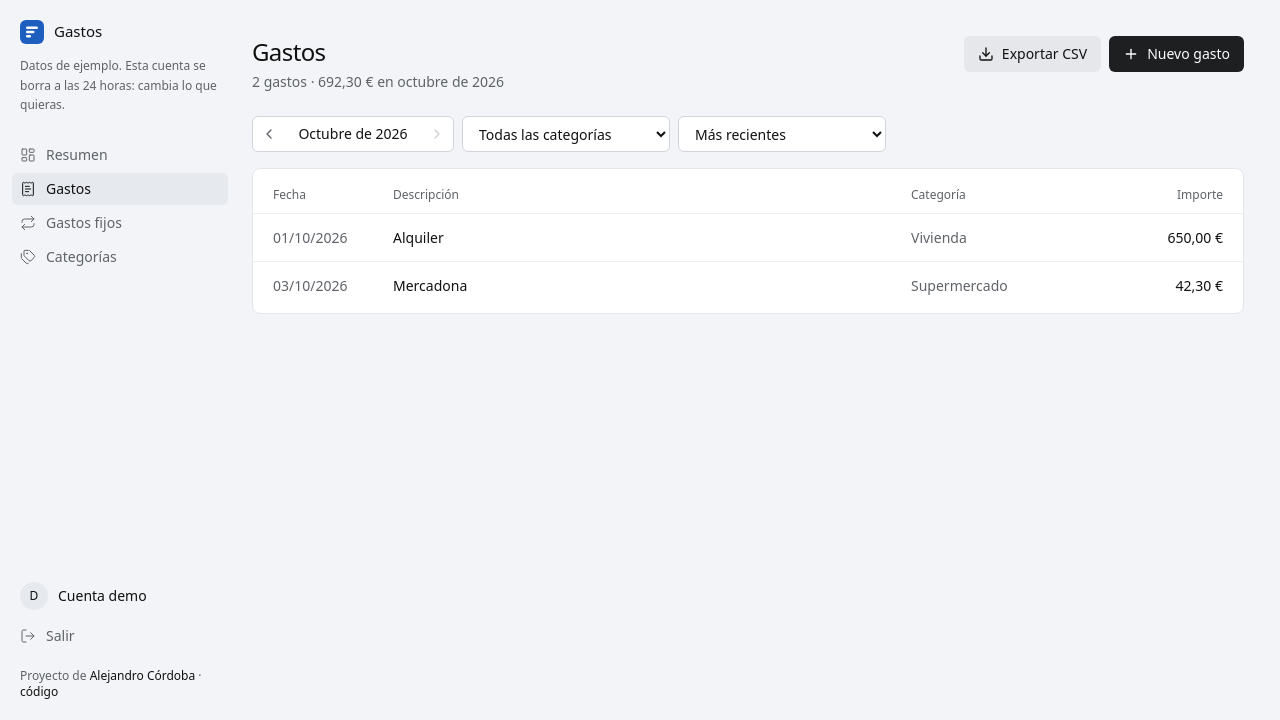
expenses page › creates an expense, accepting a decimal comma
Click the button "Nuevo gasto".
click(1177, 54)  # box [1109, 36, 1244, 72]
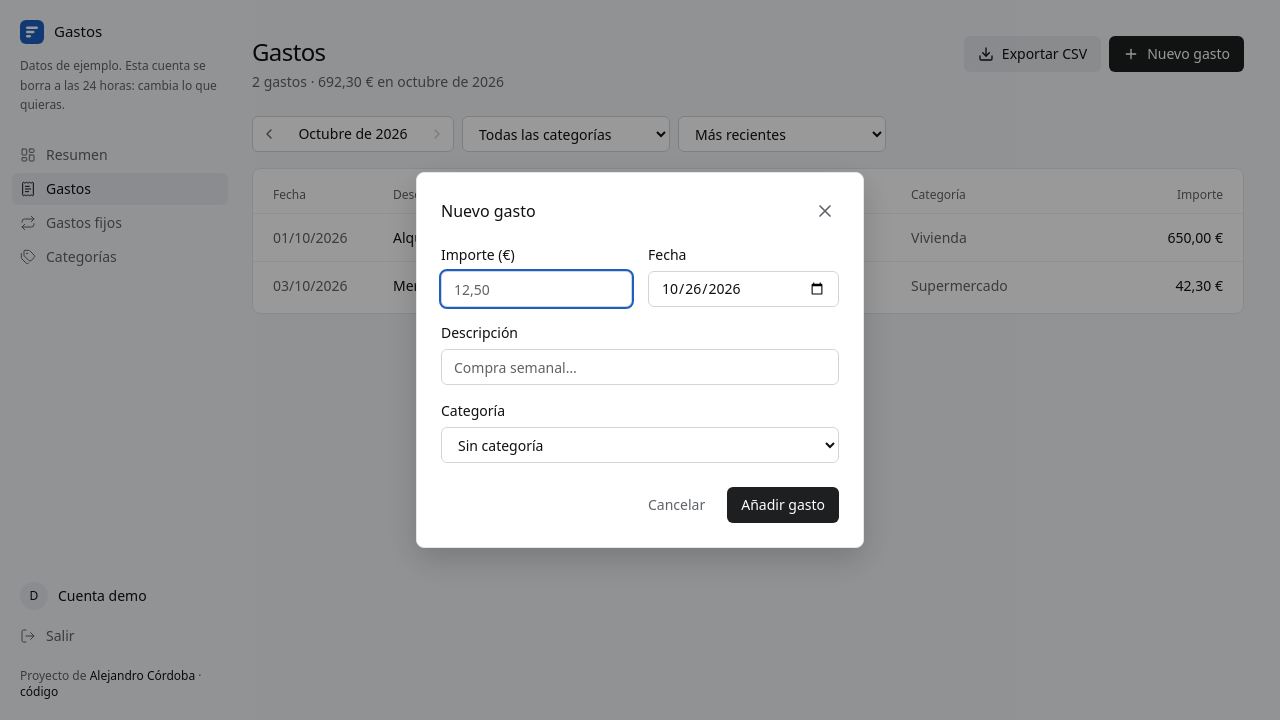
Type "12,5" into the field labelled "Importe (€)".
click(536, 289); type("12,5")  # box [441, 271, 632, 307]
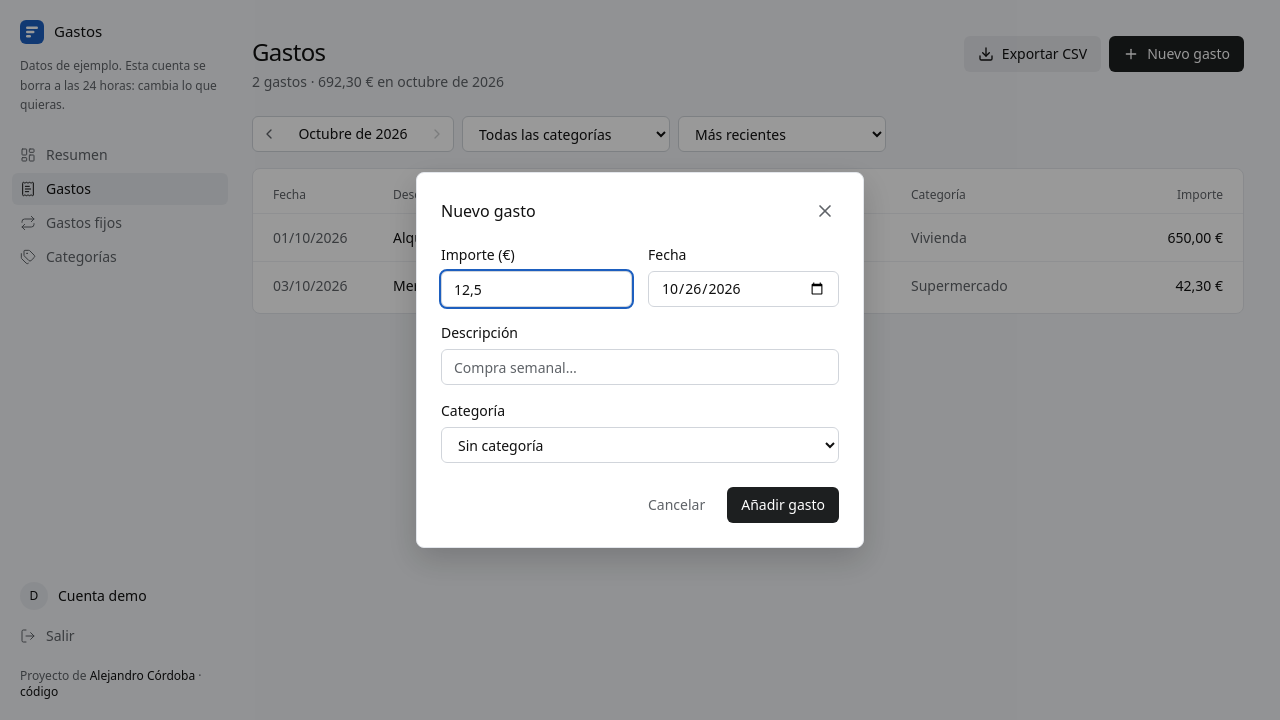
Type "Cine" into the field labelled "Descripción".
click(640, 367); type("Cine")  # box [441, 349, 839, 385]
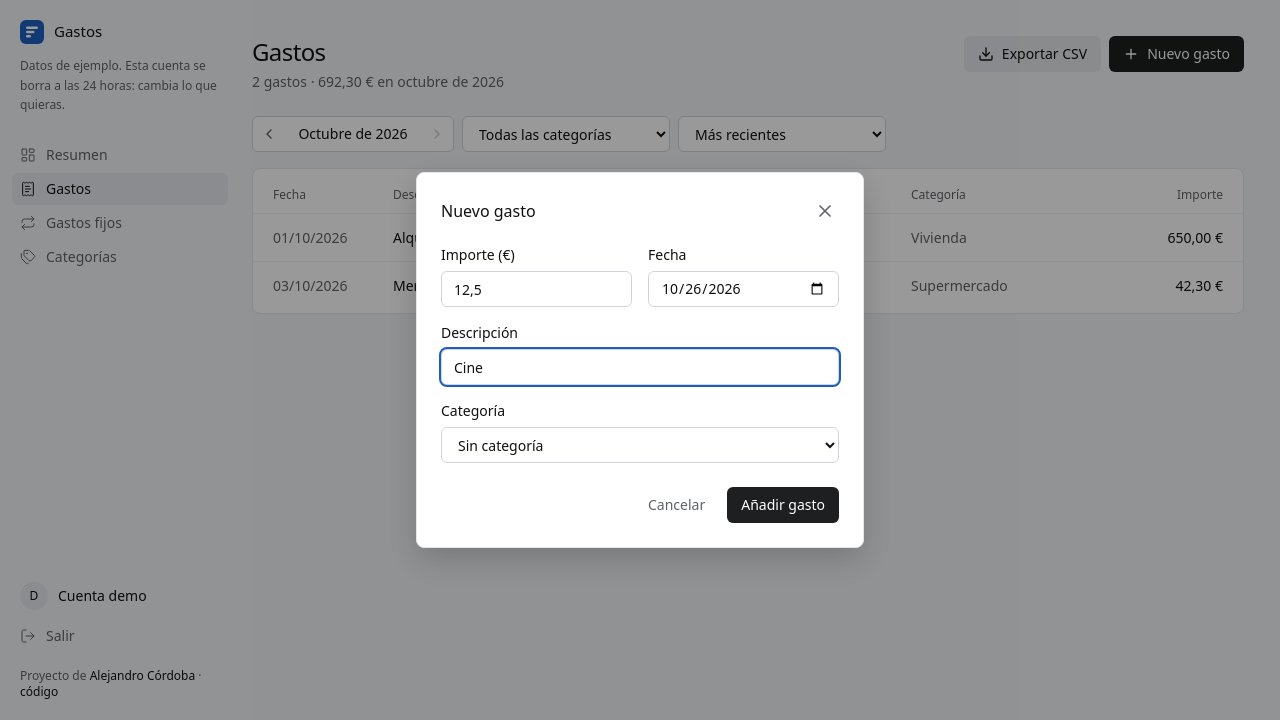
Select "Supermercado" in the dropdown labelled "Categoría" at coordinates (640, 445), box [441, 427, 839, 463]
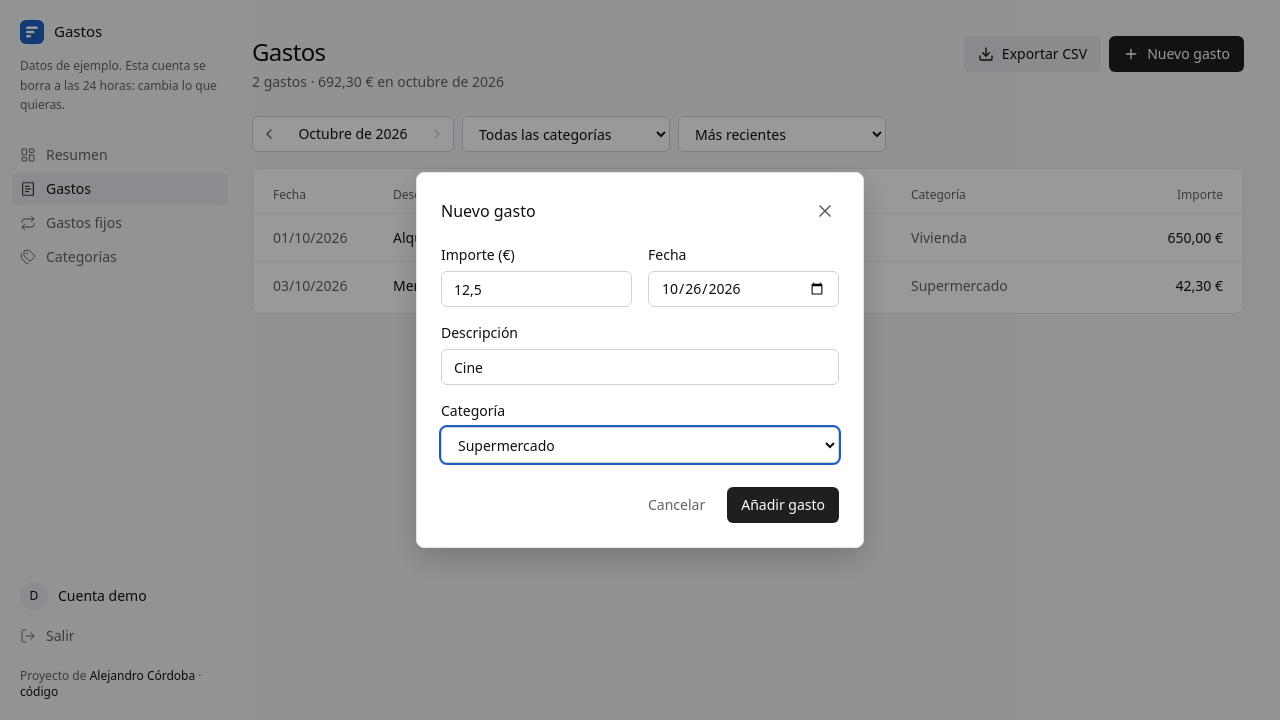
Click the button "Añadir gasto".
click(783, 505)  # box [727, 487, 839, 523]
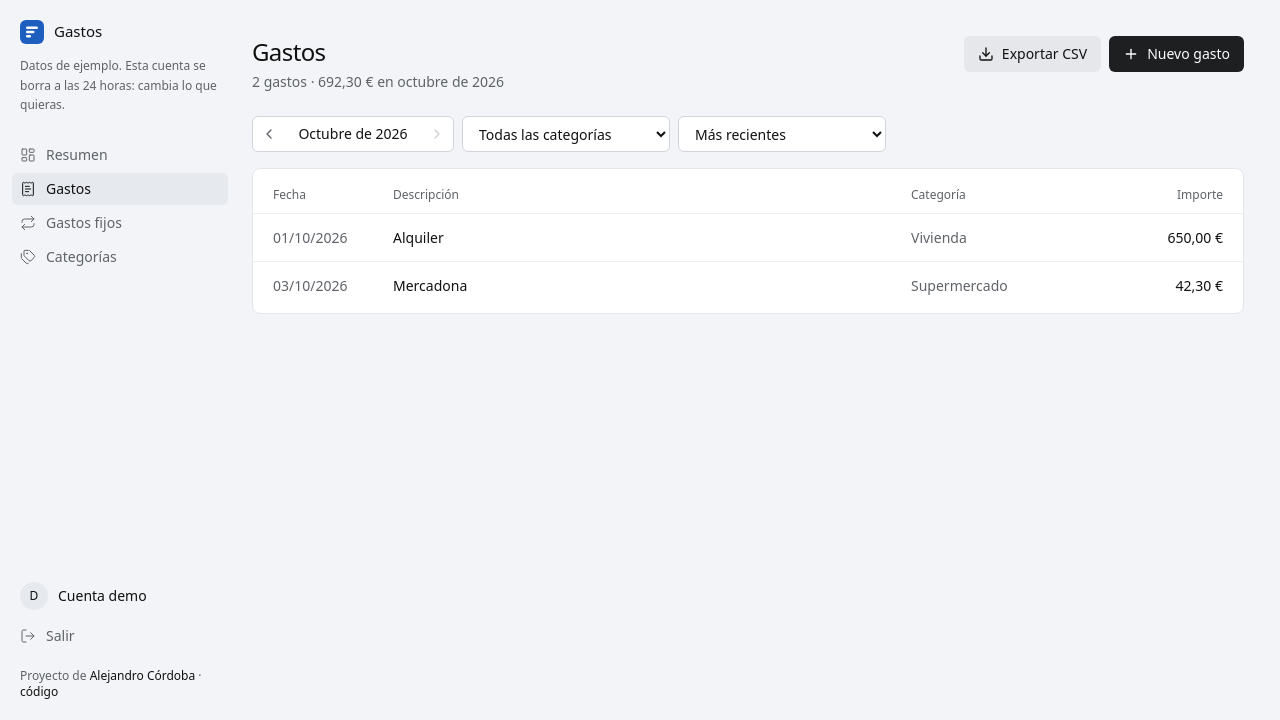
Now the dialog is gone
